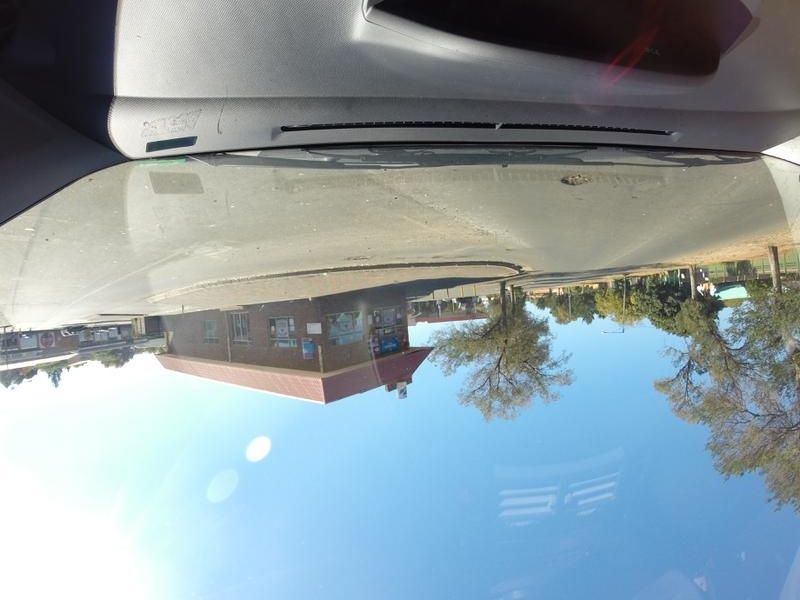pothole: (553, 175, 591, 189)
